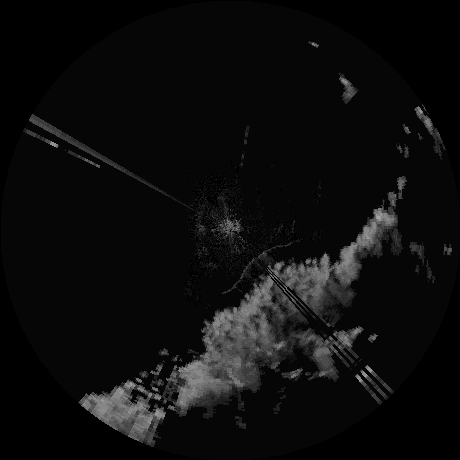frontgust: (224, 241, 292, 293)
